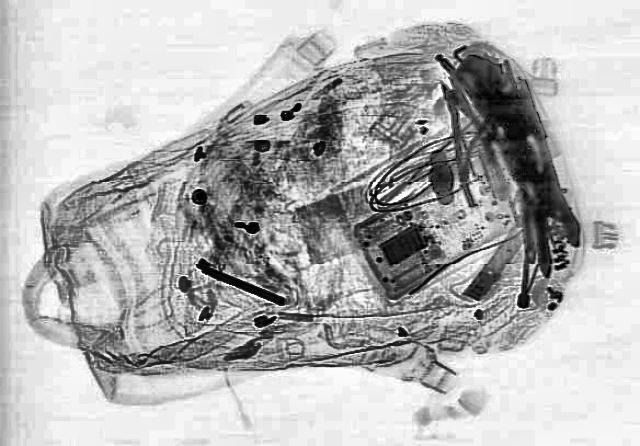Pliers: (420, 74, 516, 206)
